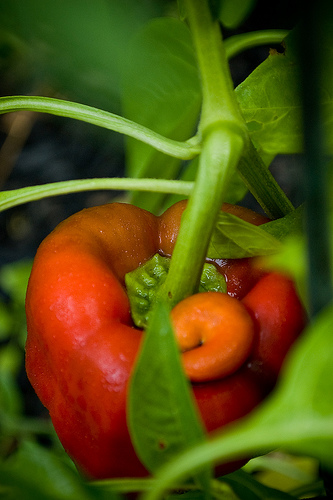capsicum: (20, 191, 314, 492)
